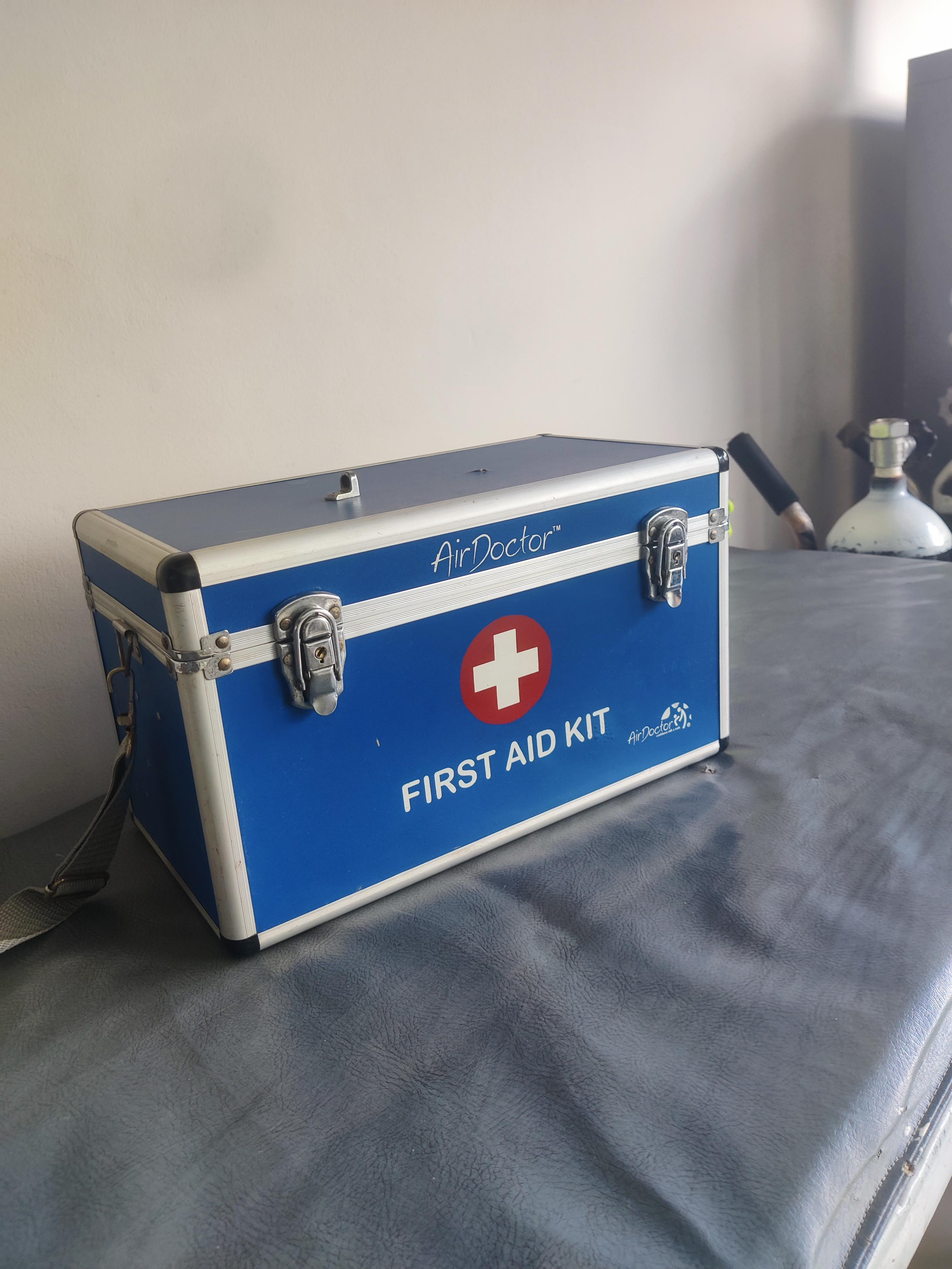FirstAidBox: (41, 415, 790, 983)
